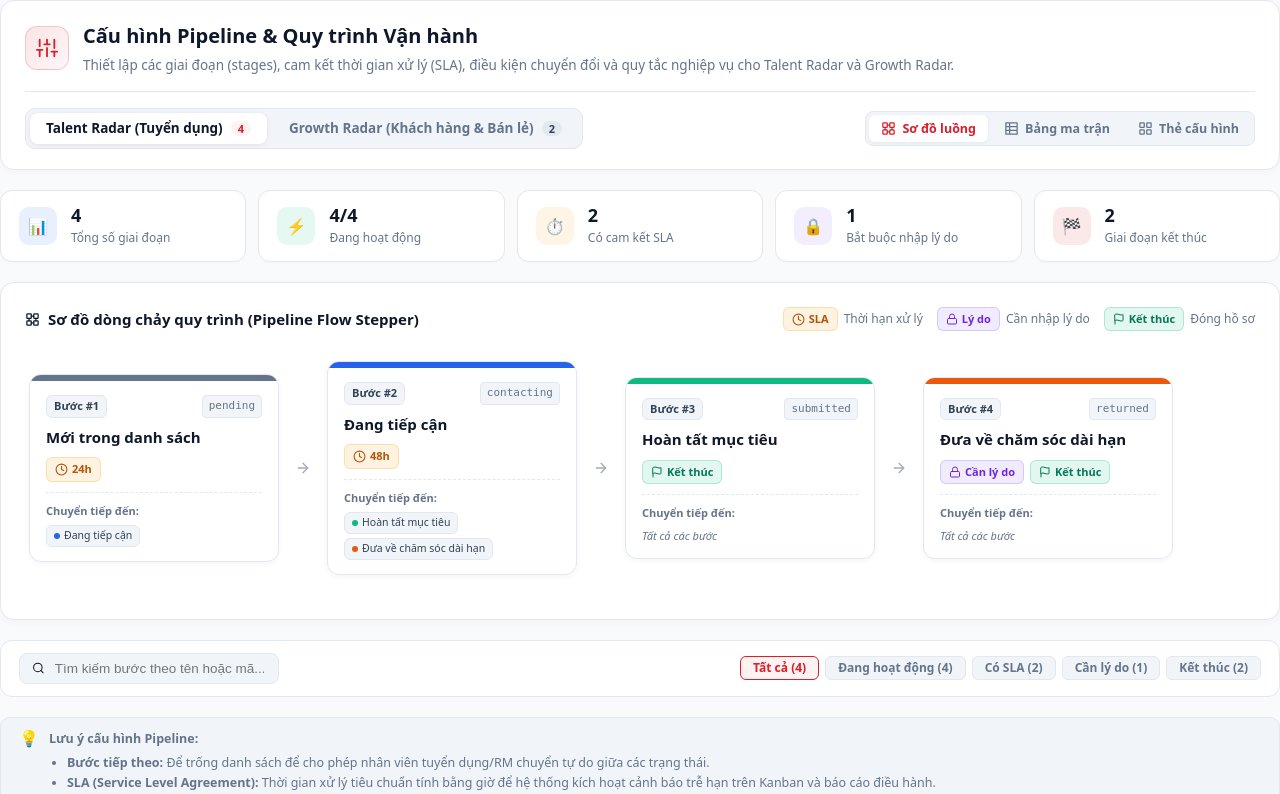
Test: Workflows Pipeline Configuration Studio › lọc danh sách bước theo từ khóa tìm kiếm
The image size is (1280, 794).
Type "tiếp cận" into the field with placeholder "Tìm kiếm bước theo tên hoặc mã...".
click(159, 668); type("tiếp cận")  # box x1=53 y1=660 x2=266 y2=677
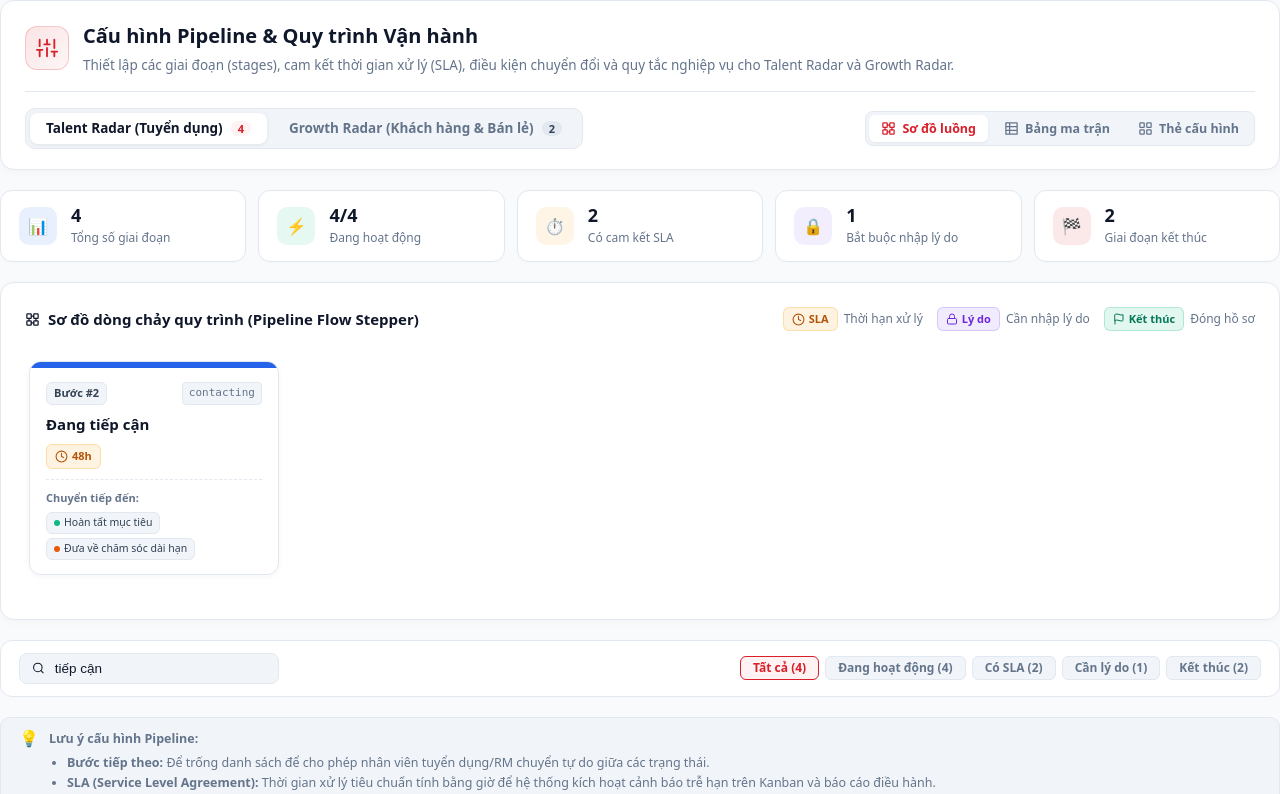
Expected: the heading "Đang tiếp cận" is shown, x1=46 y1=414 x2=149 y2=434
Expected: the heading "Mới trong danh sách" is gone
